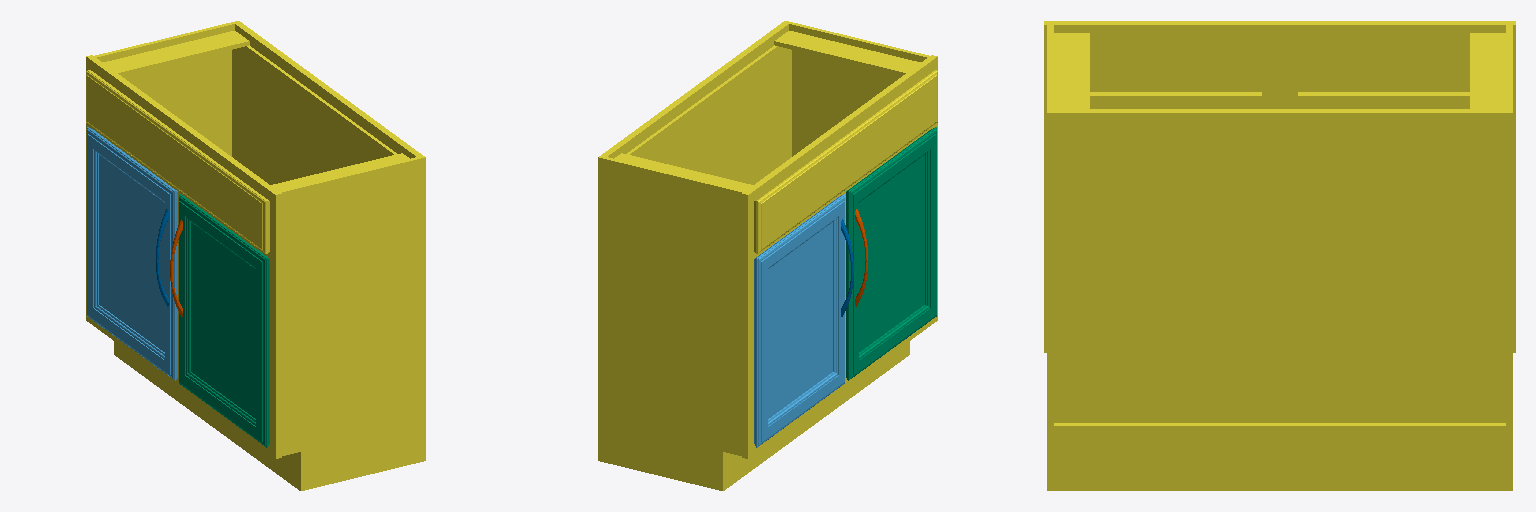
URDF robot description (partnet_3115a3a0a61aacac59350d819542ec7):
<?xml version="1.0" ?>
<robot name="partnet_3115a3a0a61aacac59350d819542ec7">
	<link name="base"/>
	<link name="link_0">
		<visual name="cabinet_door_surface-11">
			<origin xyz="0.6849369945283518 0.4971410036087036 -0.3456953636447484"/>
			<geometry>
				<mesh filename="textured_objs/original-45.obj"/>
			</geometry>
		</visual>
		<visual name="cabinet_door_surface-11">
			<origin xyz="0.6849369945283518 0.4971410036087036 -0.3456953636447484"/>
			<geometry>
				<mesh filename="textured_objs/original-47.obj"/>
			</geometry>
		</visual>
		<visual name="cabinet_door_surface-11">
			<origin xyz="0.6849369945283518 0.4971410036087036 -0.3456953636447484"/>
			<geometry>
				<mesh filename="textured_objs/original-40.obj"/>
			</geometry>
		</visual>
		<visual name="cabinet_door_surface-11">
			<origin xyz="0.6849369945283518 0.4971410036087036 -0.3456953636447484"/>
			<geometry>
				<mesh filename="textured_objs/original-42.obj"/>
			</geometry>
		</visual>
		<visual name="cabinet_door_surface-11">
			<origin xyz="0.6849369945283518 0.4971410036087036 -0.3456953636447484"/>
			<geometry>
				<mesh filename="textured_objs/original-46.obj"/>
			</geometry>
		</visual>
		<visual name="cabinet_door_surface-11">
			<origin xyz="0.6849369945283518 0.4971410036087036 -0.3456953636447484"/>
			<geometry>
				<mesh filename="textured_objs/original-39.obj"/>
			</geometry>
		</visual>
		<visual name="cabinet_door_surface-11">
			<origin xyz="0.6849369945283518 0.4971410036087036 -0.3456953636447484"/>
			<geometry>
				<mesh filename="textured_objs/original-37.obj"/>
			</geometry>
		</visual>
		<visual name="cabinet_door_surface-11">
			<origin xyz="0.6849369945283518 0.4971410036087036 -0.3456953636447484"/>
			<geometry>
				<mesh filename="textured_objs/original-41.obj"/>
			</geometry>
		</visual>
		<visual name="cabinet_door_surface-11">
			<origin xyz="0.6849369945283518 0.4971410036087036 -0.3456953636447484"/>
			<geometry>
				<mesh filename="textured_objs/original-38.obj"/>
			</geometry>
		</visual>
		<visual name="cabinet_door_surface-11">
			<origin xyz="0.6849369945283518 0.4971410036087036 -0.3456953636447484"/>
			<geometry>
				<mesh filename="textured_objs/original-44.obj"/>
			</geometry>
		</visual>
		<collision>
			<origin xyz="0.6849369945283518 0.4971410036087036 -0.3456953636447484"/>
			<geometry>
				<mesh filename="textured_objs/original-45.obj"/>
			</geometry>
		</collision>
		<collision>
			<origin xyz="0.6849369945283518 0.4971410036087036 -0.3456953636447484"/>
			<geometry>
				<mesh filename="textured_objs/original-47.obj"/>
			</geometry>
		</collision>
		<collision>
			<origin xyz="0.6849369945283518 0.4971410036087036 -0.3456953636447484"/>
			<geometry>
				<mesh filename="textured_objs/original-40.obj"/>
			</geometry>
		</collision>
		<collision>
			<origin xyz="0.6849369945283518 0.4971410036087036 -0.3456953636447484"/>
			<geometry>
				<mesh filename="textured_objs/original-42.obj"/>
			</geometry>
		</collision>
		<collision>
			<origin xyz="0.6849369945283518 0.4971410036087036 -0.3456953636447484"/>
			<geometry>
				<mesh filename="textured_objs/original-46.obj"/>
			</geometry>
		</collision>
		<collision>
			<origin xyz="0.6849369945283518 0.4971410036087036 -0.3456953636447484"/>
			<geometry>
				<mesh filename="textured_objs/original-39.obj"/>
			</geometry>
		</collision>
		<collision>
			<origin xyz="0.6849369945283518 0.4971410036087036 -0.3456953636447484"/>
			<geometry>
				<mesh filename="textured_objs/original-37.obj"/>
			</geometry>
		</collision>
		<collision>
			<origin xyz="0.6849369945283518 0.4971410036087036 -0.3456953636447484"/>
			<geometry>
				<mesh filename="textured_objs/original-41.obj"/>
			</geometry>
		</collision>
		<collision>
			<origin xyz="0.6849369945283518 0.4971410036087036 -0.3456953636447484"/>
			<geometry>
				<mesh filename="textured_objs/original-38.obj"/>
			</geometry>
		</collision>
		<collision>
			<origin xyz="0.6849369945283518 0.4971410036087036 -0.3456953636447484"/>
			<geometry>
				<mesh filename="textured_objs/original-44.obj"/>
			</geometry>
		</collision>
	</link>
	<joint name="joint_0" type="revolute">
		<origin xyz="-0.6849369945283518 -0.4971410036087036 0.3456953636447484"/>
		<axis xyz="0 -1 0"/>
		<child link="link_0"/>
		<parent link="link_2"/>
		<limit lower="0.0" upper="1.6399113651738721"/>
	</joint>
	<link name="link_1">
		<visual name="cabinet_door_surface-9">
			<origin xyz="-0.6905009497323268 -0.6374779939651488 -0.3429282138190328"/>
			<geometry>
				<mesh filename="textured_objs/original-57.obj"/>
			</geometry>
		</visual>
		<visual name="cabinet_door_surface-9">
			<origin xyz="-0.6905009497323268 -0.6374779939651488 -0.3429282138190328"/>
			<geometry>
				<mesh filename="textured_objs/original-55.obj"/>
			</geometry>
		</visual>
		<visual name="cabinet_door_surface-9">
			<origin xyz="-0.6905009497323268 -0.6374779939651488 -0.3429282138190328"/>
			<geometry>
				<mesh filename="textured_objs/original-50.obj"/>
			</geometry>
		</visual>
		<visual name="cabinet_door_surface-9">
			<origin xyz="-0.6905009497323268 -0.6374779939651488 -0.3429282138190328"/>
			<geometry>
				<mesh filename="textured_objs/original-59.obj"/>
			</geometry>
		</visual>
		<visual name="cabinet_door_surface-9">
			<origin xyz="-0.6905009497323268 -0.6374779939651488 -0.3429282138190328"/>
			<geometry>
				<mesh filename="textured_objs/original-52.obj"/>
			</geometry>
		</visual>
		<visual name="cabinet_door_surface-9">
			<origin xyz="-0.6905009497323268 -0.6374779939651488 -0.3429282138190328"/>
			<geometry>
				<mesh filename="textured_objs/original-54.obj"/>
			</geometry>
		</visual>
		<visual name="cabinet_door_surface-9">
			<origin xyz="-0.6905009497323268 -0.6374779939651488 -0.3429282138190328"/>
			<geometry>
				<mesh filename="textured_objs/original-53.obj"/>
			</geometry>
		</visual>
		<visual name="cabinet_door_surface-9">
			<origin xyz="-0.6905009497323268 -0.6374779939651488 -0.3429282138190328"/>
			<geometry>
				<mesh filename="textured_objs/original-60.obj"/>
			</geometry>
		</visual>
		<visual name="cabinet_door_surface-9">
			<origin xyz="-0.6905009497323268 -0.6374779939651488 -0.3429282138190328"/>
			<geometry>
				<mesh filename="textured_objs/original-51.obj"/>
			</geometry>
		</visual>
		<visual name="cabinet_door_surface-9">
			<origin xyz="-0.6905009497323268 -0.6374779939651488 -0.3429282138190328"/>
			<geometry>
				<mesh filename="textured_objs/original-58.obj"/>
			</geometry>
		</visual>
		<collision>
			<origin xyz="-0.6905009497323268 -0.6374779939651488 -0.3429282138190328"/>
			<geometry>
				<mesh filename="textured_objs/original-57.obj"/>
			</geometry>
		</collision>
		<collision>
			<origin xyz="-0.6905009497323268 -0.6374779939651488 -0.3429282138190328"/>
			<geometry>
				<mesh filename="textured_objs/original-55.obj"/>
			</geometry>
		</collision>
		<collision>
			<origin xyz="-0.6905009497323268 -0.6374779939651488 -0.3429282138190328"/>
			<geometry>
				<mesh filename="textured_objs/original-50.obj"/>
			</geometry>
		</collision>
		<collision>
			<origin xyz="-0.6905009497323268 -0.6374779939651488 -0.3429282138190328"/>
			<geometry>
				<mesh filename="textured_objs/original-59.obj"/>
			</geometry>
		</collision>
		<collision>
			<origin xyz="-0.6905009497323268 -0.6374779939651488 -0.3429282138190328"/>
			<geometry>
				<mesh filename="textured_objs/original-52.obj"/>
			</geometry>
		</collision>
		<collision>
			<origin xyz="-0.6905009497323268 -0.6374779939651488 -0.3429282138190328"/>
			<geometry>
				<mesh filename="textured_objs/original-54.obj"/>
			</geometry>
		</collision>
		<collision>
			<origin xyz="-0.6905009497323268 -0.6374779939651488 -0.3429282138190328"/>
			<geometry>
				<mesh filename="textured_objs/original-53.obj"/>
			</geometry>
		</collision>
		<collision>
			<origin xyz="-0.6905009497323268 -0.6374779939651488 -0.3429282138190328"/>
			<geometry>
				<mesh filename="textured_objs/original-60.obj"/>
			</geometry>
		</collision>
		<collision>
			<origin xyz="-0.6905009497323268 -0.6374779939651488 -0.3429282138190328"/>
			<geometry>
				<mesh filename="textured_objs/original-51.obj"/>
			</geometry>
		</collision>
		<collision>
			<origin xyz="-0.6905009497323268 -0.6374779939651488 -0.3429282138190328"/>
			<geometry>
				<mesh filename="textured_objs/original-58.obj"/>
			</geometry>
		</collision>
	</link>
	<joint name="joint_1" type="revolute">
		<origin xyz="0.6905009497323268 0.6374779939651488 0.3429282138190328"/>
		<axis xyz="0 1 0"/>
		<child link="link_1"/>
		<parent link="link_2"/>
		<limit lower="0.0" upper="1.6399113651738721"/>
	</joint>
	<link name="link_2">
		<visual name="vertical_side_panel-18">
			<origin xyz="0 0 0"/>
			<geometry>
				<mesh filename="textured_objs/original-11.obj"/>
			</geometry>
		</visual>
		<visual name="vertical_side_panel-18">
			<origin xyz="0 0 0"/>
			<geometry>
				<mesh filename="textured_objs/original-10.obj"/>
			</geometry>
		</visual>
		<visual name="vertical_side_panel-19">
			<origin xyz="0 0 0"/>
			<geometry>
				<mesh filename="textured_objs/original-15.obj"/>
			</geometry>
		</visual>
		<visual name="vertical_side_panel-19">
			<origin xyz="0 0 0"/>
			<geometry>
				<mesh filename="textured_objs/original-14.obj"/>
			</geometry>
		</visual>
		<visual name="back_panel-20">
			<origin xyz="0 0 0"/>
			<geometry>
				<mesh filename="textured_objs/original-5.obj"/>
			</geometry>
		</visual>
		<visual name="bottom_panel-21">
			<origin xyz="0 0 0"/>
			<geometry>
				<mesh filename="textured_objs/original-2.obj"/>
			</geometry>
		</visual>
		<visual name="frame_vertical_bar-22">
			<origin xyz="0 0 0"/>
			<geometry>
				<mesh filename="textured_objs/original-3.obj"/>
			</geometry>
		</visual>
		<visual name="frame_vertical_bar-23">
			<origin xyz="0 0 0"/>
			<geometry>
				<mesh filename="textured_objs/original-7.obj"/>
			</geometry>
		</visual>
		<visual name="frame_horizontal_bar-24">
			<origin xyz="0 0 0"/>
			<geometry>
				<mesh filename="textured_objs/original-22.obj"/>
			</geometry>
		</visual>
		<visual name="frame_horizontal_bar-25">
			<origin xyz="0 0 0"/>
			<geometry>
				<mesh filename="textured_objs/original-21.obj"/>
			</geometry>
		</visual>
		<visual name="frame_horizontal_bar-26">
			<origin xyz="0 0 0"/>
			<geometry>
				<mesh filename="textured_objs/original-4.obj"/>
			</geometry>
		</visual>
		<visual name="frame_horizontal_bar-27">
			<origin xyz="0 0 0"/>
			<geometry>
				<mesh filename="textured_objs/original-8.obj"/>
			</geometry>
		</visual>
		<visual name="frame_horizontal_bar-28">
			<origin xyz="0 0 0"/>
			<geometry>
				<mesh filename="textured_objs/original-6.obj"/>
			</geometry>
		</visual>
		<visual name="frame_horizontal_bar-29">
			<origin xyz="0 0 0"/>
			<geometry>
				<mesh filename="textured_objs/original-18.obj"/>
			</geometry>
		</visual>
		<visual name="frame_vertical_bar-30">
			<origin xyz="0 0 0"/>
			<geometry>
				<mesh filename="textured_objs/original-17.obj"/>
			</geometry>
		</visual>
		<visual name="frame_vertical_bar-30">
			<origin xyz="0 0 0"/>
			<geometry>
				<mesh filename="textured_objs/original-23.obj"/>
			</geometry>
		</visual>
		<visual name="other_leaf-32">
			<origin xyz="0 0 0"/>
			<geometry>
				<mesh filename="textured_objs/original-62.obj"/>
			</geometry>
		</visual>
		<visual name="vertical_front_panel-33">
			<origin xyz="0 0 0"/>
			<geometry>
				<mesh filename="textured_objs/original-31.obj"/>
			</geometry>
		</visual>
		<visual name="vertical_front_panel-33">
			<origin xyz="0 0 0"/>
			<geometry>
				<mesh filename="textured_objs/original-34.obj"/>
			</geometry>
		</visual>
		<visual name="vertical_front_panel-33">
			<origin xyz="0 0 0"/>
			<geometry>
				<mesh filename="textured_objs/original-33.obj"/>
			</geometry>
		</visual>
		<visual name="vertical_front_panel-33">
			<origin xyz="0 0 0"/>
			<geometry>
				<mesh filename="textured_objs/original-26.obj"/>
			</geometry>
		</visual>
		<visual name="vertical_front_panel-33">
			<origin xyz="0 0 0"/>
			<geometry>
				<mesh filename="textured_objs/original-32.obj"/>
			</geometry>
		</visual>
		<visual name="vertical_front_panel-33">
			<origin xyz="0 0 0"/>
			<geometry>
				<mesh filename="textured_objs/original-25.obj"/>
			</geometry>
		</visual>
		<visual name="vertical_front_panel-33">
			<origin xyz="0 0 0"/>
			<geometry>
				<mesh filename="textured_objs/original-35.obj"/>
			</geometry>
		</visual>
		<visual name="vertical_front_panel-33">
			<origin xyz="0 0 0"/>
			<geometry>
				<mesh filename="textured_objs/original-28.obj"/>
			</geometry>
		</visual>
		<visual name="vertical_front_panel-33">
			<origin xyz="0 0 0"/>
			<geometry>
				<mesh filename="textured_objs/original-27.obj"/>
			</geometry>
		</visual>
		<visual name="vertical_front_panel-33">
			<origin xyz="0 0 0"/>
			<geometry>
				<mesh filename="textured_objs/original-30.obj"/>
			</geometry>
		</visual>
		<visual name="base_side_panel-14">
			<origin xyz="0 0 0"/>
			<geometry>
				<mesh filename="textured_objs/original-16.obj"/>
			</geometry>
		</visual>
		<visual name="base_side_panel-15">
			<origin xyz="0 0 0"/>
			<geometry>
				<mesh filename="textured_objs/original-19.obj"/>
			</geometry>
		</visual>
		<visual name="base_side_panel-16">
			<origin xyz="0 0 0"/>
			<geometry>
				<mesh filename="textured_objs/original-12.obj"/>
			</geometry>
		</visual>
		<visual name="base_side_panel-17">
			<origin xyz="0 0 0"/>
			<geometry>
				<mesh filename="textured_objs/original-20.obj"/>
			</geometry>
		</visual>
		<collision>
			<origin xyz="0 0 0"/>
			<geometry>
				<mesh filename="textured_objs/original-11.obj"/>
			</geometry>
		</collision>
		<collision>
			<origin xyz="0 0 0"/>
			<geometry>
				<mesh filename="textured_objs/original-10.obj"/>
			</geometry>
		</collision>
		<collision>
			<origin xyz="0 0 0"/>
			<geometry>
				<mesh filename="textured_objs/original-15.obj"/>
			</geometry>
		</collision>
		<collision>
			<origin xyz="0 0 0"/>
			<geometry>
				<mesh filename="textured_objs/original-14.obj"/>
			</geometry>
		</collision>
		<collision>
			<origin xyz="0 0 0"/>
			<geometry>
				<mesh filename="textured_objs/original-5.obj"/>
			</geometry>
		</collision>
		<collision>
			<origin xyz="0 0 0"/>
			<geometry>
				<mesh filename="textured_objs/original-2.obj"/>
			</geometry>
		</collision>
		<collision>
			<origin xyz="0 0 0"/>
			<geometry>
				<mesh filename="textured_objs/original-3.obj"/>
			</geometry>
		</collision>
		<collision>
			<origin xyz="0 0 0"/>
			<geometry>
				<mesh filename="textured_objs/original-7.obj"/>
			</geometry>
		</collision>
		<collision>
			<origin xyz="0 0 0"/>
			<geometry>
				<mesh filename="textured_objs/original-22.obj"/>
			</geometry>
		</collision>
		<collision>
			<origin xyz="0 0 0"/>
			<geometry>
				<mesh filename="textured_objs/original-21.obj"/>
			</geometry>
		</collision>
		<collision>
			<origin xyz="0 0 0"/>
			<geometry>
				<mesh filename="textured_objs/original-4.obj"/>
			</geometry>
		</collision>
		<collision>
			<origin xyz="0 0 0"/>
			<geometry>
				<mesh filename="textured_objs/original-8.obj"/>
			</geometry>
		</collision>
		<collision>
			<origin xyz="0 0 0"/>
			<geometry>
				<mesh filename="textured_objs/original-6.obj"/>
			</geometry>
		</collision>
		<collision>
			<origin xyz="0 0 0"/>
			<geometry>
				<mesh filename="textured_objs/original-18.obj"/>
			</geometry>
		</collision>
		<collision>
			<origin xyz="0 0 0"/>
			<geometry>
				<mesh filename="textured_objs/original-17.obj"/>
			</geometry>
		</collision>
		<collision>
			<origin xyz="0 0 0"/>
			<geometry>
				<mesh filename="textured_objs/original-23.obj"/>
			</geometry>
		</collision>
		<collision>
			<origin xyz="0 0 0"/>
			<geometry>
				<mesh filename="textured_objs/original-62.obj"/>
			</geometry>
		</collision>
		<collision>
			<origin xyz="0 0 0"/>
			<geometry>
				<mesh filename="textured_objs/original-31.obj"/>
			</geometry>
		</collision>
		<collision>
			<origin xyz="0 0 0"/>
			<geometry>
				<mesh filename="textured_objs/original-34.obj"/>
			</geometry>
		</collision>
		<collision>
			<origin xyz="0 0 0"/>
			<geometry>
				<mesh filename="textured_objs/original-33.obj"/>
			</geometry>
		</collision>
		<collision>
			<origin xyz="0 0 0"/>
			<geometry>
				<mesh filename="textured_objs/original-26.obj"/>
			</geometry>
		</collision>
		<collision>
			<origin xyz="0 0 0"/>
			<geometry>
				<mesh filename="textured_objs/original-32.obj"/>
			</geometry>
		</collision>
		<collision>
			<origin xyz="0 0 0"/>
			<geometry>
				<mesh filename="textured_objs/original-25.obj"/>
			</geometry>
		</collision>
		<collision>
			<origin xyz="0 0 0"/>
			<geometry>
				<mesh filename="textured_objs/original-35.obj"/>
			</geometry>
		</collision>
		<collision>
			<origin xyz="0 0 0"/>
			<geometry>
				<mesh filename="textured_objs/original-28.obj"/>
			</geometry>
		</collision>
		<collision>
			<origin xyz="0 0 0"/>
			<geometry>
				<mesh filename="textured_objs/original-27.obj"/>
			</geometry>
		</collision>
		<collision>
			<origin xyz="0 0 0"/>
			<geometry>
				<mesh filename="textured_objs/original-30.obj"/>
			</geometry>
		</collision>
		<collision>
			<origin xyz="0 0 0"/>
			<geometry>
				<mesh filename="textured_objs/original-16.obj"/>
			</geometry>
		</collision>
		<collision>
			<origin xyz="0 0 0"/>
			<geometry>
				<mesh filename="textured_objs/original-19.obj"/>
			</geometry>
		</collision>
		<collision>
			<origin xyz="0 0 0"/>
			<geometry>
				<mesh filename="textured_objs/original-12.obj"/>
			</geometry>
		</collision>
		<collision>
			<origin xyz="0 0 0"/>
			<geometry>
				<mesh filename="textured_objs/original-20.obj"/>
			</geometry>
		</collision>
	</link>
	<joint name="joint_2" type="fixed">
		<origin rpy="1.570796326794897 0 -1.570796326794897" xyz="0 0 0"/>
		<child link="link_2"/>
		<parent link="base"/>
	</joint>
	<link name="link_3">
		<visual name="handle-1">
			<origin xyz="0.6849369945283518 0.4971410036087036 -0.3456953636447484"/>
			<geometry>
				<mesh filename="textured_objs/original-48.obj"/>
			</geometry>
		</visual>
		<collision>
			<origin xyz="0.6849369945283518 0.4971410036087036 -0.3456953636447484"/>
			<geometry>
				<mesh filename="textured_objs/original-48.obj"/>
			</geometry>
		</collision>
	</link>
	<joint name="joint_3" type="fixed">
		<origin rpy="0 0 0" xyz="0 0 0"/>
		<child link="link_3"/>
		<parent link="link_0"/>
	</joint>
	<link name="link_4">
		<visual name="handle-1">
			<origin xyz="-0.6905009497323268 -0.6374779939651488 -0.3429282138190328"/>
			<geometry>
				<mesh filename="textured_objs/original-61.obj"/>
			</geometry>
		</visual>
		<collision>
			<origin xyz="-0.6905009497323268 -0.6374779939651488 -0.3429282138190328"/>
			<geometry>
				<mesh filename="textured_objs/original-61.obj"/>
			</geometry>
		</collision>
	</link>
	<joint name="joint_4" type="fixed">
		<origin rpy="0 0 0" xyz="0 0 0"/>
		<child link="link_4"/>
		<parent link="link_1"/>
	</joint>
</robot>

--- What the picture shows (computed from the rendered views, not written in the file) ---
3 views of the same robot in one strip: view 1: azimuth 30°, elevation 25°; view 2: azimuth 150°, elevation 25°; view 3: azimuth 270°, elevation 25° (orthographic).
Robot: partnet_3115a3a0a61aacac59350d819542ec7 — 6 links, 5 joints (2 revolute, 3 fixed); root link base; default pose: all joints at 0.
Links seen in each view (by area): view 1: link_2, link_1, link_0; view 2: link_2, link_0, link_1; view 3: link_2.
Link boxes in pixels (box(x1,y1,x2,y2)): link_2: box(86, 21, 425, 490); link_1: box(179, 194, 269, 447); link_0: box(87, 127, 177, 380); link_2: box(598, 21, 937, 490); link_0: box(754, 194, 844, 447); link_1: box(846, 127, 936, 380); link_2: box(1044, 21, 1515, 490).
Size in the robot's own frame: 0.7611 by 1.48 by 1.3 metres.
53 mesh visuals loaded from 53 distinct referenced files (53 OBJ).